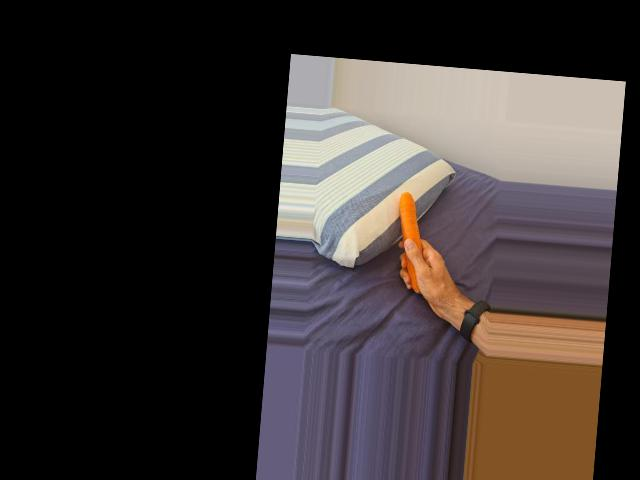carrot: (391, 191, 433, 295)
